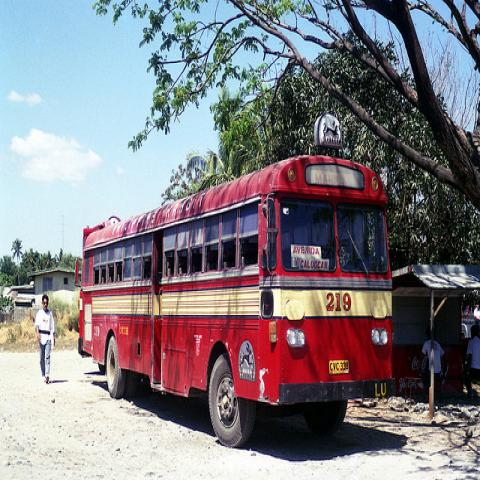bus: (79, 158, 398, 448)
